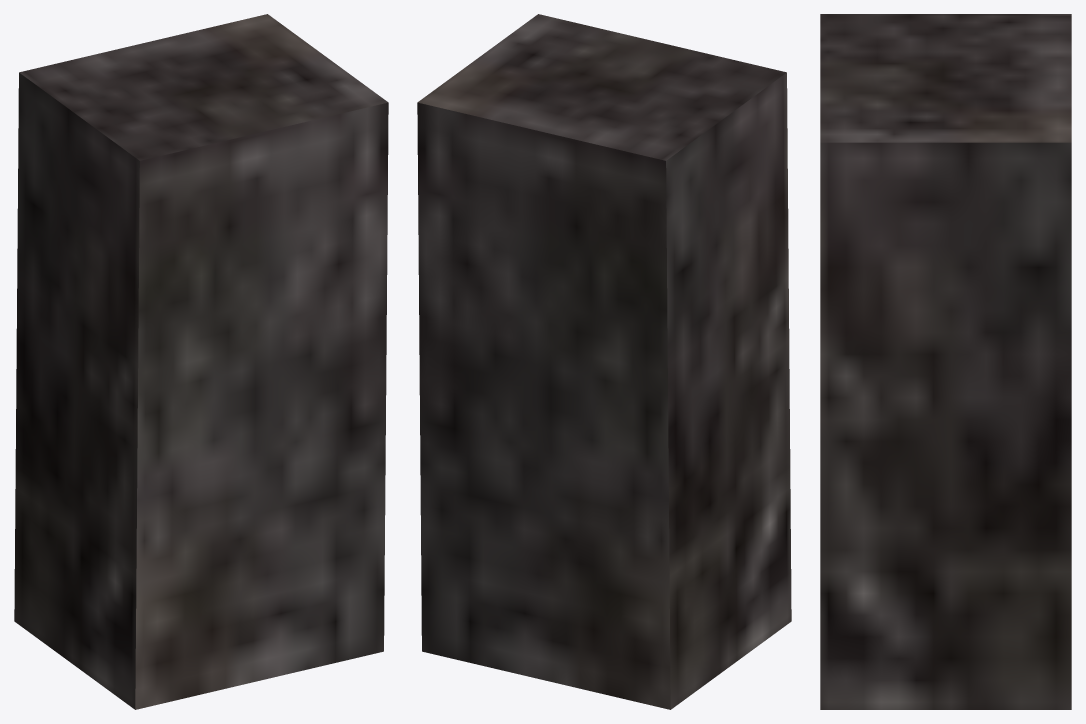
3 views of the same model, side by side, from view 1: azimuth 30°, elevation 25°; view 2: azimuth 150°, elevation 25°; view 3: azimuth 270°, elevation 25° (orthographic). The views are drawn at different scales.
Parts seen in each view (by area): view 1: model_Object40; view 2: model_Object40; view 3: model_Object40.
Boxes of the visible parts, x1,y1,x2,y2 form: model_Object40: [14, 14, 388, 709]; model_Object40: [417, 14, 791, 709]; model_Object40: [820, 14, 1071, 709].
Bounding box in the file's own units: 0.1725 × 0.358 × 0.1426.
1 material, 1 textured.
